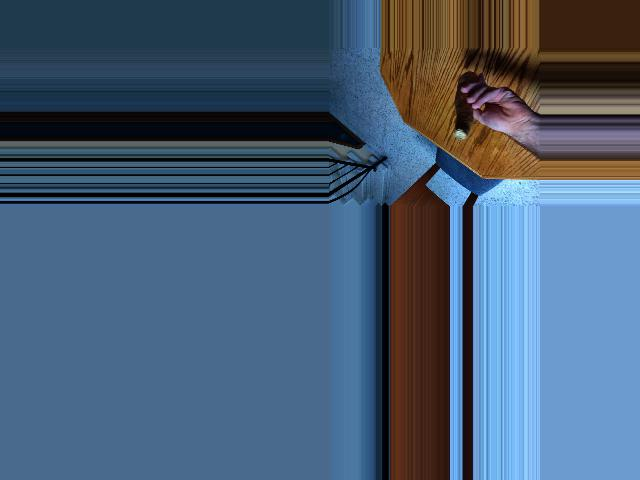sweet_potato: (451, 72, 481, 141)
